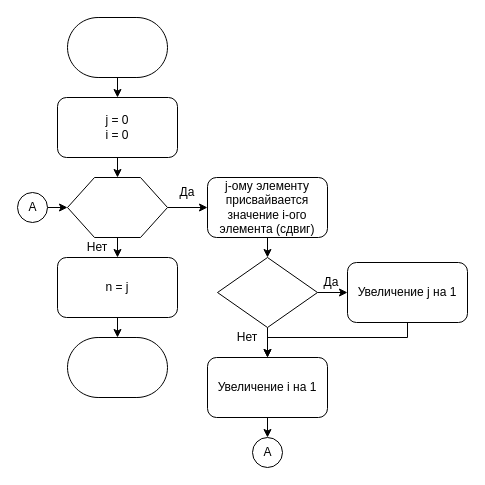
Image size: 485x485. Some labels were removed from this diagram. The shapes that lost their labels are listed below. From the top down, each one's centre as x and y in pixels, then its label:
point (117, 47): Начало
point (117, 207): i < n
point (267, 292): i-й элемент не равен key?
point (117, 367): Конец
